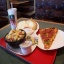pizza: (38, 27, 56, 49)
